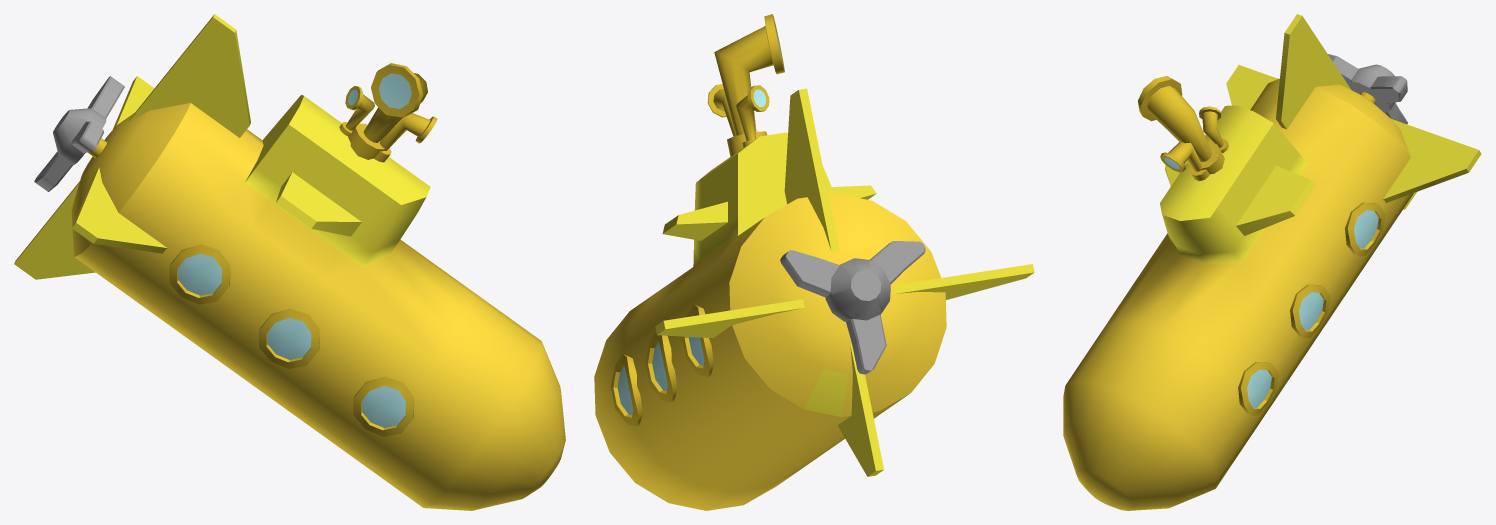
Rendered from Yeller_Submarin.FBX.
3 renders of one model, left to right at view 1: azimuth 30°, elevation 25°; view 2: azimuth 150°, elevation 25°; view 3: azimuth 270°, elevation 25°, orthographic. The views are drawn at different scales.
Parts seen in each view (by area): view 1: Cylinder139, Cylinder140; view 2: Cylinder139, Cylinder140; view 3: Cylinder139, Cylinder140.
Part boxes in pixels (bbox=[...]): Cylinder139: bbox=[14, 14, 565, 510]; Cylinder140: bbox=[34, 76, 124, 191]; Cylinder139: bbox=[594, 14, 1034, 510]; Cylinder140: bbox=[780, 241, 925, 374]; Cylinder139: bbox=[1063, 14, 1481, 510]; Cylinder140: bbox=[1328, 54, 1407, 124].
Size of the model in its own units: 100 by 104 by 95.29.
